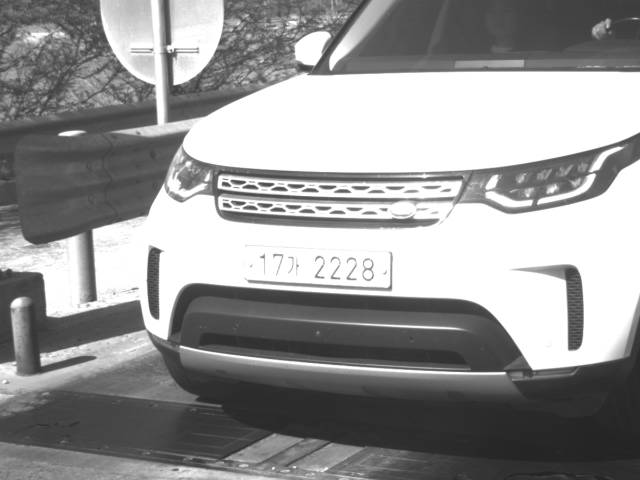car: (136, 1, 640, 432)
plate: (242, 242, 394, 290)
